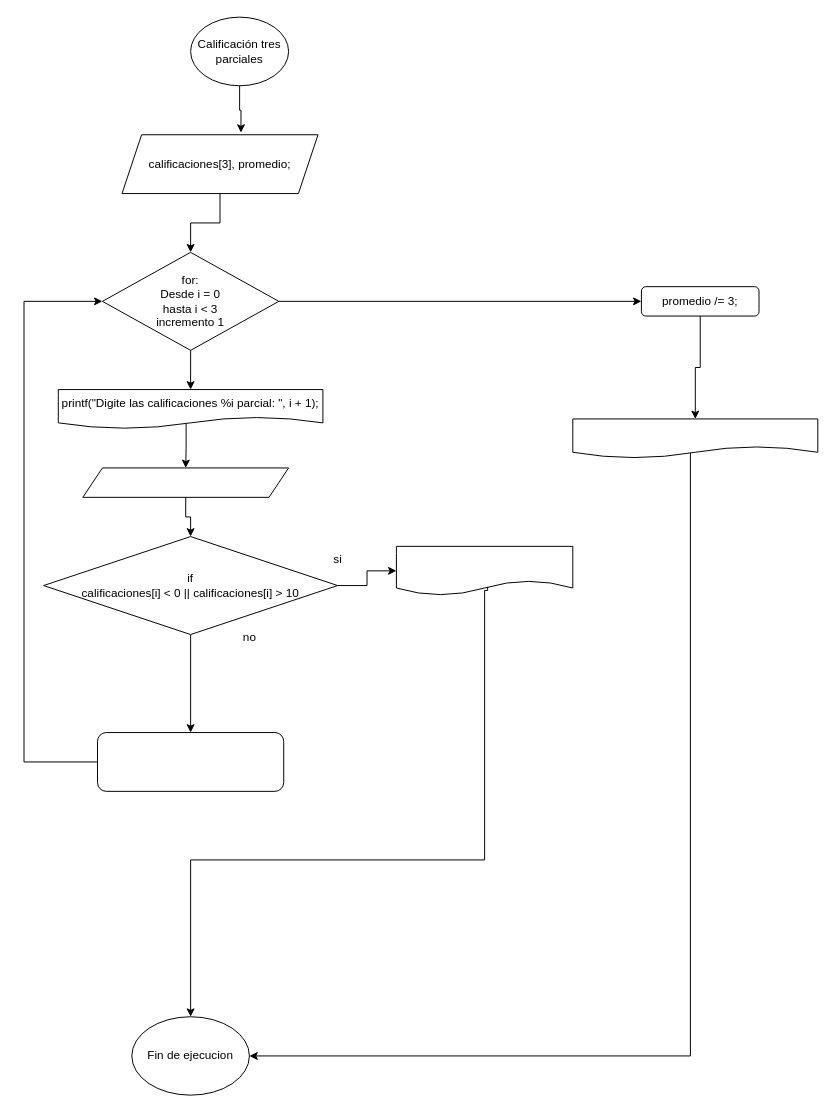
The diagram is 835 pixels wide and 1112 high, and some of its shapes have lost their labels. The centre of each missing label's shape, as x and y in pixels:
printf("Elija un rango de 0-10!!!");: point 484,570
printf("Su promedio es de %.1f", promedio);: point 695,438
promedio += calificaciones[i];: point 190,761
scanf("%f", &calificaciones[i]);: point 185,482
